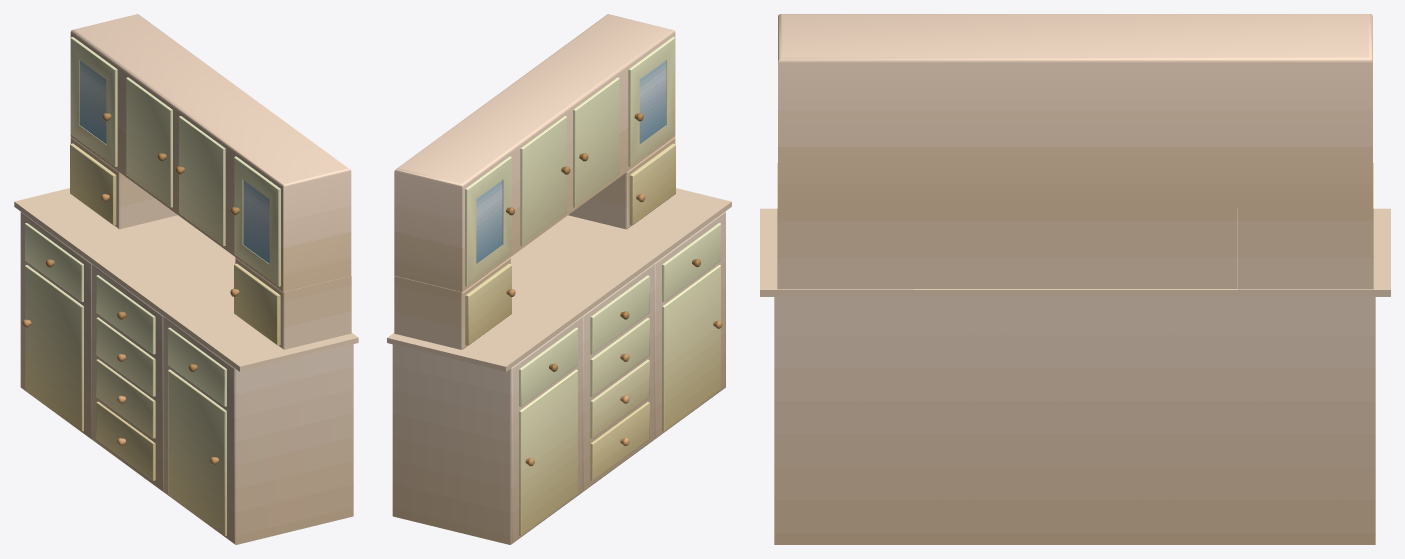
The model's file is kitchen_cabinet1.fbx.
3 views of the same model, side by side, from view 1: azimuth 30°, elevation 25°; view 2: azimuth 150°, elevation 25°; view 3: azimuth 270°, elevation 25° (orthographic). The views are drawn at different scales.
Parts seen in each view (by area): view 1: kitchen_cabinet1; view 2: kitchen_cabinet1; view 3: kitchen_cabinet1.
Part boxes in pixels (<box>): kitchen_cabinet1: <box>14,14,358,544</box>; kitchen_cabinet1: <box>387,14,731,544</box>; kitchen_cabinet1: <box>760,14,1390,544</box>.
Size of the model in its own units: 110 by 285 by 336.
